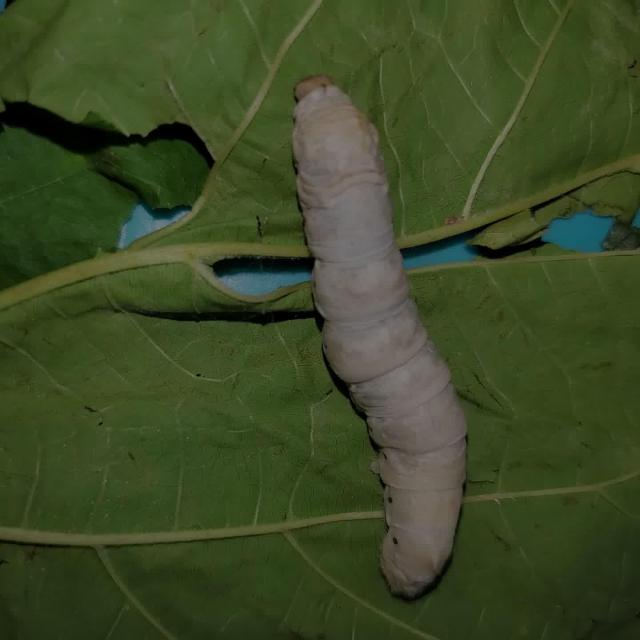Grasserie: (274, 61, 478, 603)
